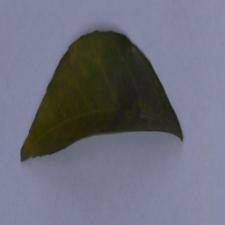Greening: (25, 28, 178, 155)
